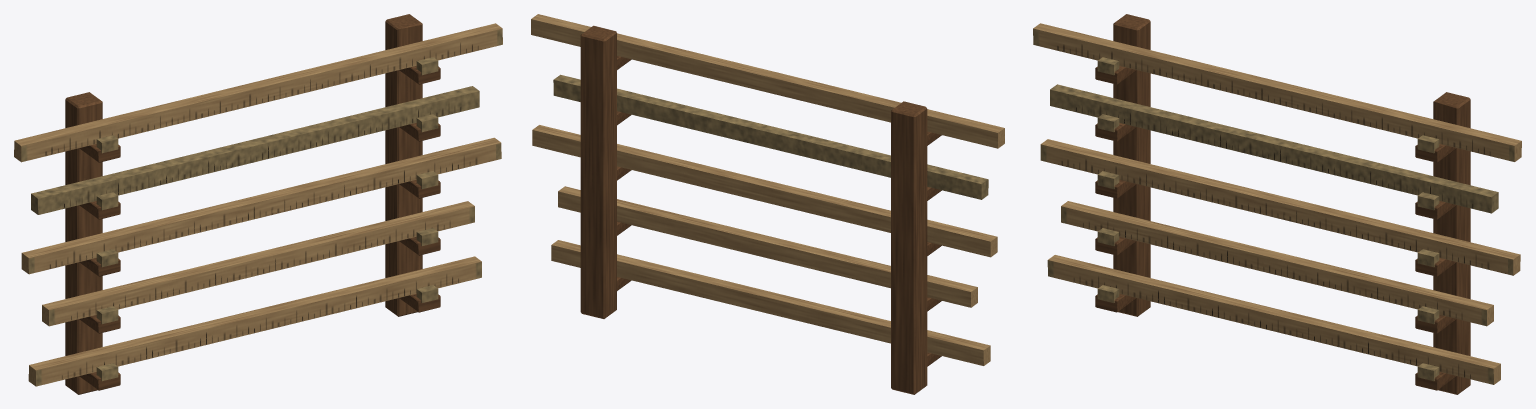
Rendered from GraduatedRuleRack_LOD1.fbx.
3 renders of one model, left to right at view 1: azimuth 30°, elevation 25°; view 2: azimuth 150°, elevation 25°; view 3: azimuth 330°, elevation 25°, orthographic. The views are drawn at different scales.
Parts seen in each view (by area): view 1: GraduatedRuleRack.001; view 2: GraduatedRuleRack.001; view 3: GraduatedRuleRack.001.
Part boxes in pixels (x1,y1,x2,y2): GraduatedRuleRack.001: (14, 14, 502, 394); GraduatedRuleRack.001: (531, 14, 1004, 394); GraduatedRuleRack.001: (1033, 14, 1521, 394).
Size of the model in its own units: 2.17 by 1.24 by 0.2565.
Materials: 1 (1 with a texture image).
